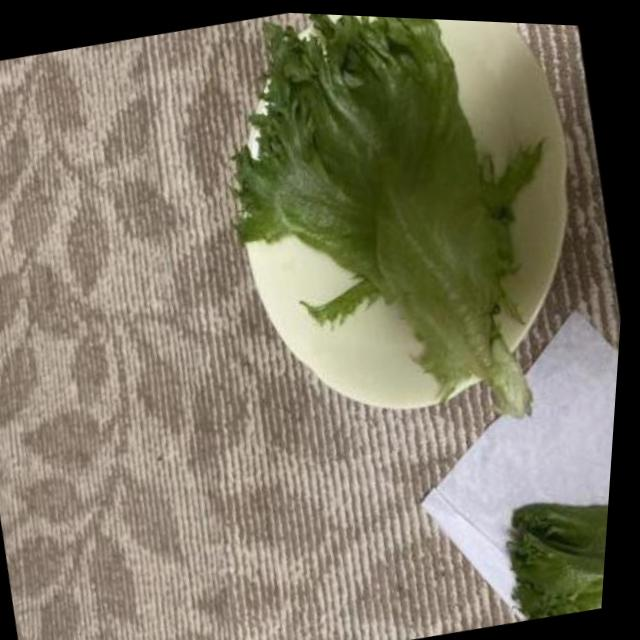Mature: (233, 14, 541, 416)
